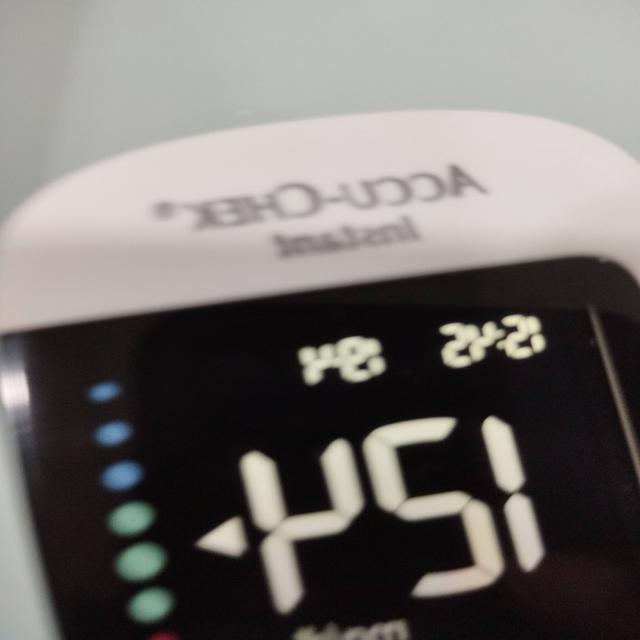gluco: (0, 110, 640, 640)
